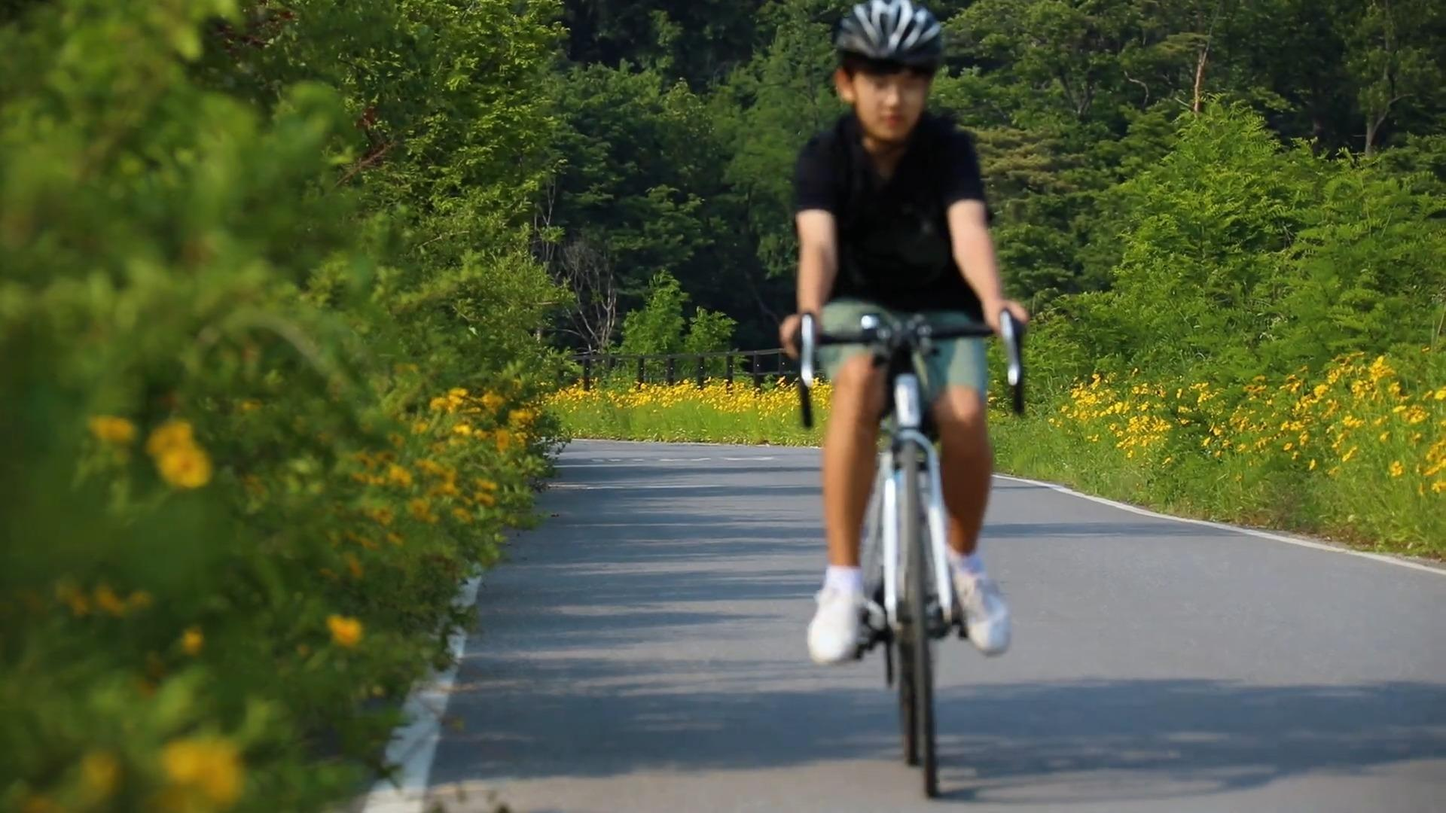bicyclist: (776, 0, 1031, 803)
helmet: (833, 0, 945, 162)
